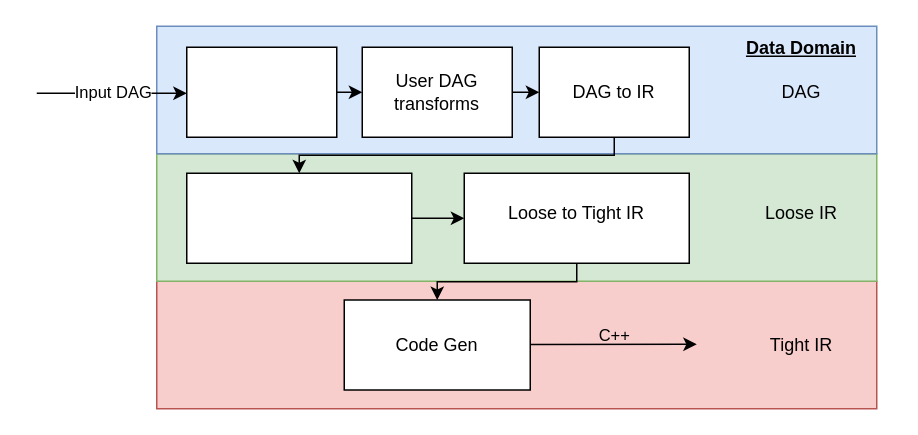
This 918x435 diagram has some shape labels left out. The centre of each missing label's shape, as x and y in pixels:
DAG transforms: the point at 261,91
User IR transforms: the point at 298,217
